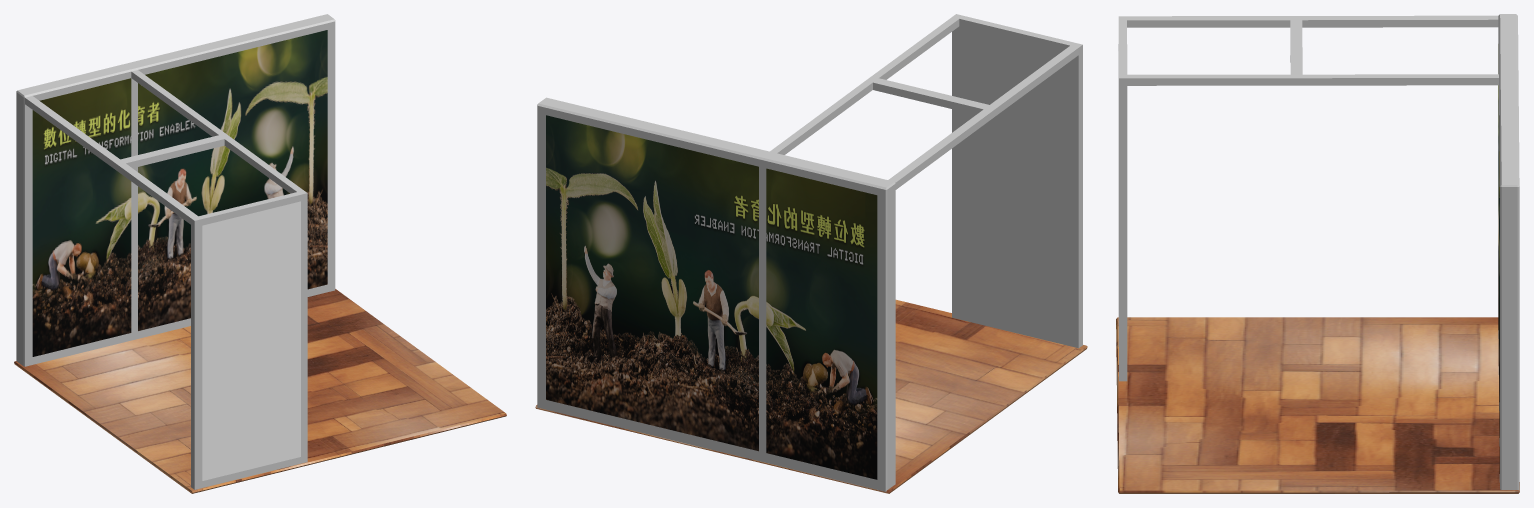
Rendered from boothstage.fbx.
The picture shows the model from 3 angles, left to right: view 1: azimuth 30°, elevation 25°; view 2: azimuth 150°, elevation 25°; view 3: azimuth 270°, elevation 25°; orthographic projection. The views are drawn at different scales.
Visible parts, largest first — view 1: booth_stage; view 2: booth_stage; view 3: booth_stage.
Part boxes in pixels (box(x1,y1,x2,y2)): booth_stage: box(14, 14, 506, 493); booth_stage: box(535, 14, 1087, 493); booth_stage: box(1116, 14, 1519, 493).
Bounding box in the file's own units: 323 × 267 × 317.
Materials: 3 (3 with a texture image).
